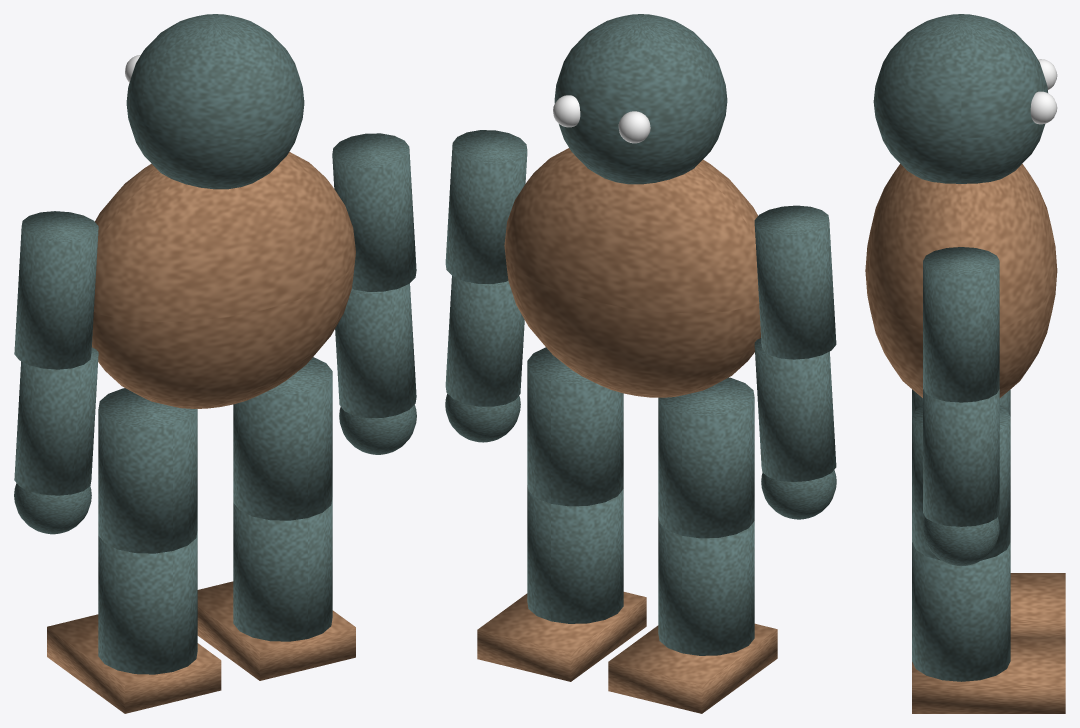
The model's file is water-elemental.glb.
3 renders of one model, left to right at view 1: azimuth 30°, elevation 25°; view 2: azimuth 150°, elevation 25°; view 3: azimuth 270°, elevation 25°, orthographic. The views are drawn at different scales.
Visible parts, largest first — view 1: Torso, Head, ThighL, ThighR, ShinR, ShinL, UpperArmL, UpperArmR, ForearmL, ForearmR, FootL, FootR (+2 smaller); view 2: Torso, Head, ThighL, ThighR, ShinR, ShinL, UpperArmL, UpperArmR, ForearmL, ForearmR, FootL, FootR (+4 smaller); view 3: Torso, Head, ShinR, UpperArmR, ForearmR, FootR, FootL, ThighR, HandR, Eye.001, ThighL, Eye.
Part boxes in pixels (x1,y1,x2,y2): Torso: (92, 152, 355, 408); Head: (126, 14, 304, 189); ThighL: (98, 388, 197, 553); ThighR: (233, 357, 332, 520); ShinR: (233, 497, 332, 641); ShinL: (98, 531, 197, 674); UpperArmL: (14, 211, 98, 369); UpperArmR: (332, 133, 416, 291); ForearmL: (14, 347, 98, 495); ForearmR: (335, 283, 416, 418); FootL: (47, 614, 221, 713); FootR: (197, 581, 355, 680); Torso: (504, 148, 760, 397); Head: (554, 14, 727, 184); ThighL: (658, 377, 754, 538); ThighR: (527, 347, 623, 506); ShinR: (527, 485, 623, 623); ShinL: (658, 517, 754, 655); UpperArmL: (754, 205, 836, 359); UpperArmR: (445, 130, 527, 283); ForearmL: (754, 338, 836, 481); ForearmR: (445, 276, 524, 406); FootL: (608, 623, 777, 713); FootR: (477, 592, 646, 681); Torso: (865, 163, 1057, 397); Head: (873, 14, 1047, 183); ShinR: (912, 542, 1010, 681); UpperArmR: (923, 247, 999, 402); ForearmR: (923, 389, 999, 526); FootR: (912, 637, 1065, 713); FootL: (1010, 573, 1065, 637); ThighR: (912, 405, 1010, 560); HandR: (923, 517, 999, 566); Eye.001: (1030, 91, 1057, 124); ThighL: (912, 389, 1010, 416); Eye: (1038, 59, 1057, 89).
Size of the model in its own units: 0.6367 by 1 by 0.2852.
Materials: 3 (2 with a texture image).
